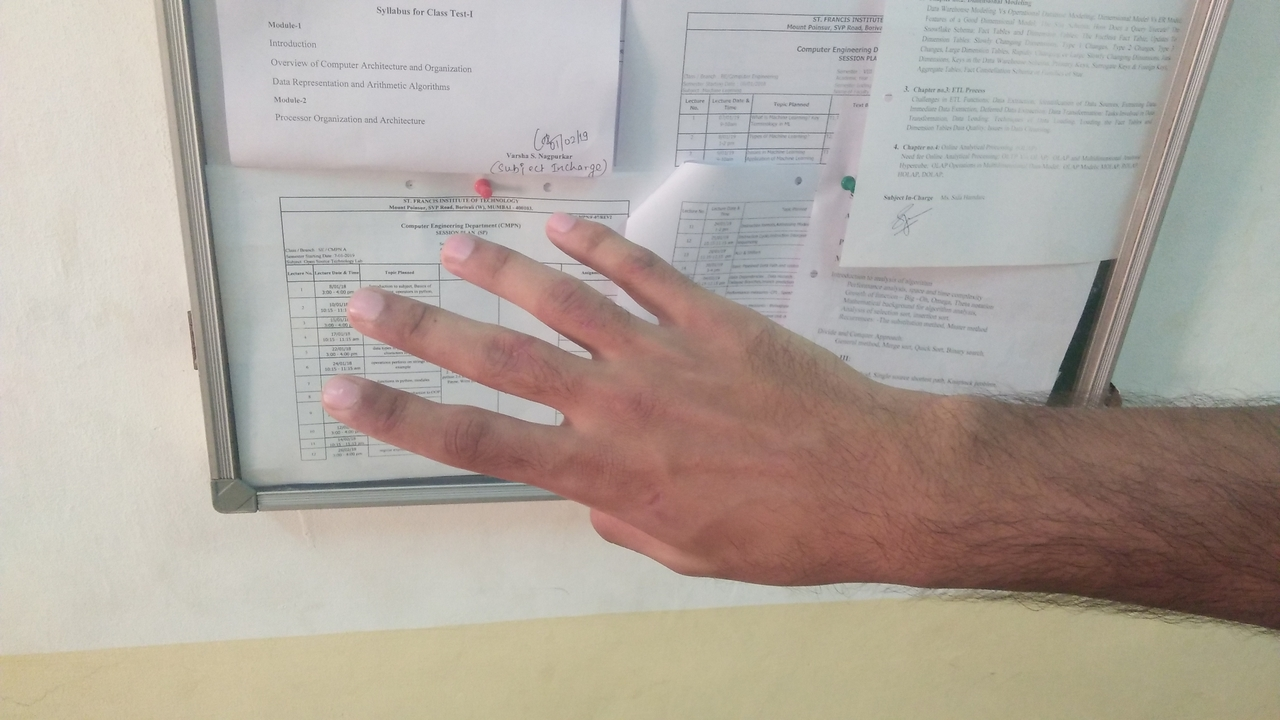fingertip: (536, 202, 596, 250), (310, 373, 367, 413), (438, 227, 483, 274), (347, 281, 387, 331)
